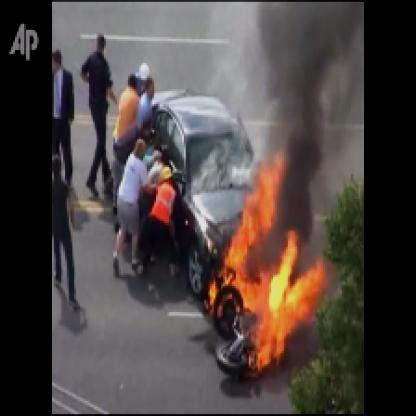Fire: (199, 147, 336, 379)
Smoke: (267, 2, 351, 243)
